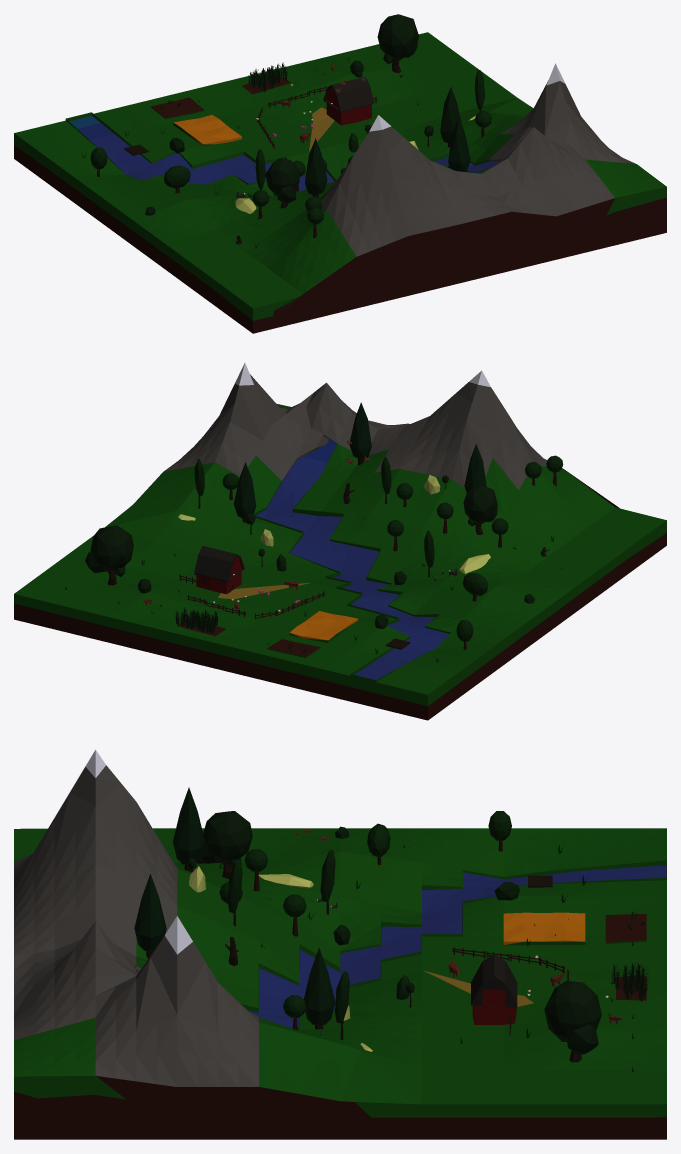
The model's file is landscape.obj.
3 views of the same model, one above another, from view 1: azimuth 30°, elevation 25°; view 2: azimuth 150°, elevation 25°; view 3: azimuth 270°, elevation 25° (orthographic). The views are drawn at different scales.
Visible parts, largest first — view 1: Plane, Cube.001_Cube.003, Icosphere.010_Icosphere.015, Icosphere.000_Icosphere.002, Icosphere.007_Icosphere.012, Icosphere.006_Icosphere.011, Icosphere.008_Icosphere.013, Cylinder.019_Cylinder.020; view 2: Plane, Cube.001_Cube.003, Icosphere.010_Icosphere.015, Icosphere.000_Icosphere.002, Icosphere.006_Icosphere.011, Icosphere.008_Icosphere.013, Icosphere.007_Icosphere.012, Cube.005_Cube.013; view 3: Plane, Icosphere.010_Icosphere.015, Cube.001_Cube.003, Icosphere.000_Icosphere.002, Icosphere.008_Icosphere.013, Icosphere.007_Icosphere.012, Icosphere.006_Icosphere.011, Cylinder.019_Cylinder.020, Cylinder.018_Cylinder.019, Cube.005_Cube.013, Icosphere.004_Icosphere.005, Icosphere.003_Icosphere.007 (+1 smaller).
Boxes of the visible parts, <box> form: Plane: <box>14,32,666,333</box>; Cube.001_Cube.003: <box>323,76,374,125</box>; Icosphere.010_Icosphere.015: <box>377,14,419,63</box>; Icosphere.000_Icosphere.002: <box>265,158,299,203</box>; Icosphere.007_Icosphere.012: <box>305,138,327,195</box>; Icosphere.006_Icosphere.011: <box>448,117,470,171</box>; Icosphere.008_Icosphere.013: <box>440,87,461,143</box>; Cylinder.019_Cylinder.020: <box>163,165,190,193</box>; Plane: <box>14,363,666,720</box>; Cube.001_Cube.003: <box>194,546,244,594</box>; Icosphere.010_Icosphere.015: <box>85,525,133,576</box>; Icosphere.000_Icosphere.002: <box>463,485,497,526</box>; Icosphere.006_Icosphere.011: <box>349,402,371,459</box>; Icosphere.008_Icosphere.013: <box>233,462,256,519</box>; Icosphere.007_Icosphere.012: <box>464,444,486,492</box>; Cube.005_Cube.013: <box>179,574,325,619</box>; Plane: <box>14,749,666,1139</box>; Icosphere.010_Icosphere.015: <box>544,981,601,1054</box>; Cube.001_Cube.003: <box>471,954,517,1024</box>; Icosphere.000_Icosphere.002: <box>201,811,252,868</box>; Icosphere.008_Icosphere.013: <box>304,947,335,1024</box>; Icosphere.007_Icosphere.012: <box>173,787,204,864</box>; Icosphere.006_Icosphere.011: <box>134,873,166,951</box>; Cylinder.019_Cylinder.020: <box>367,823,390,865</box>; Cylinder.018_Cylinder.019: <box>488,811,511,851</box>; Cube.005_Cube.013: <box>452,947,568,1035</box>; Icosphere.004_Icosphere.005: <box>227,860,242,912</box>; Icosphere.003_Icosphere.007: <box>320,849,335,901</box>.
Bounding box in the file's own units: 10.67 × 3.92 × 10.67.
